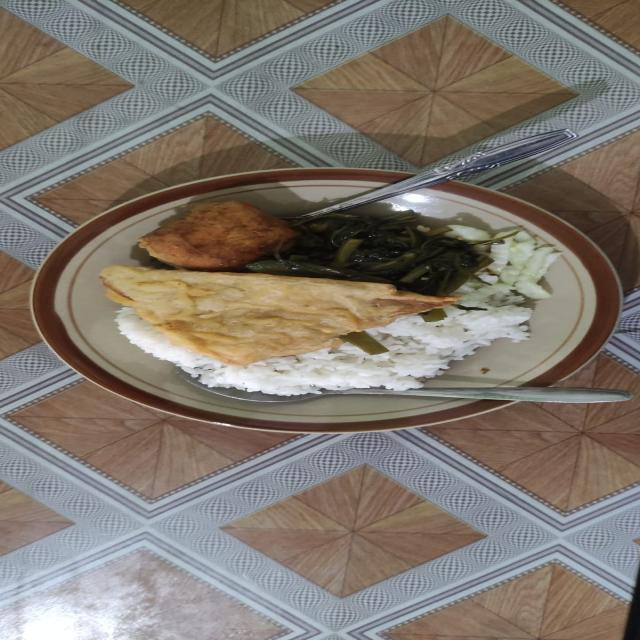telur_ayam_dadar: (94, 275, 457, 355)
